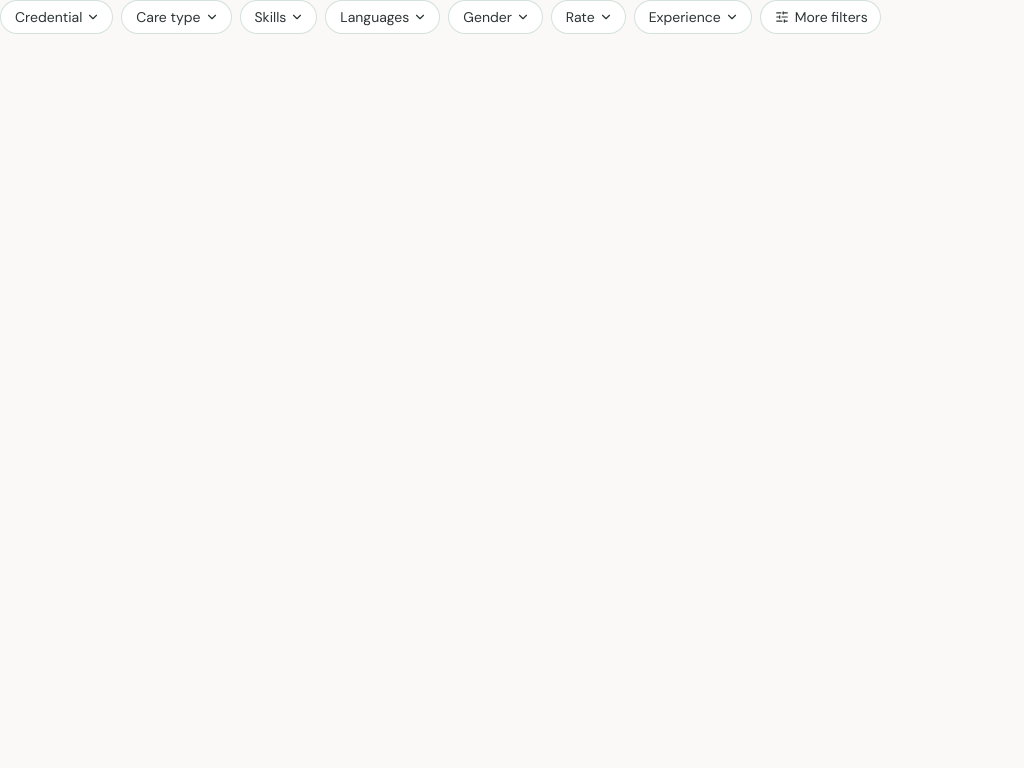
Scenario: chip options come from the directory › offers only the languages nurses actually speak
Click the button "Languages".
click(383, 17)  # box [326, 1, 439, 33]
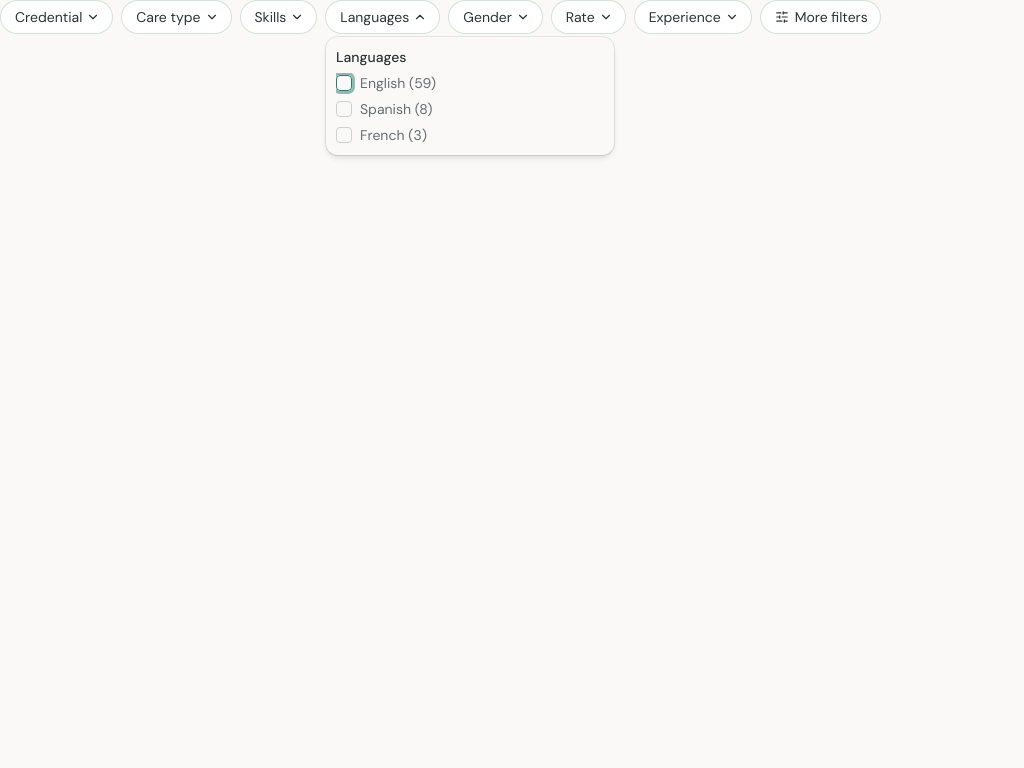
Now the checkbox named "French (3)" next to "French (3)" is shown, box [336, 127, 352, 143]
